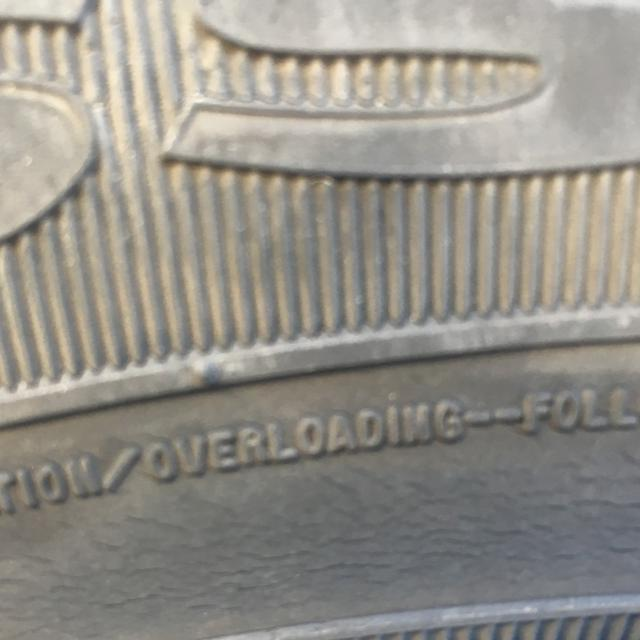Cracks: (0, 406, 640, 640)
